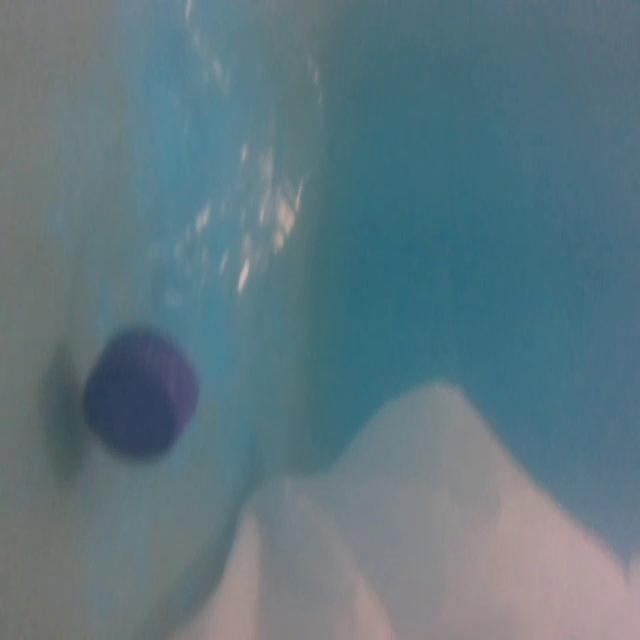plastic bags: (156, 376, 640, 640)
plastic bottle: (76, 0, 322, 472)
